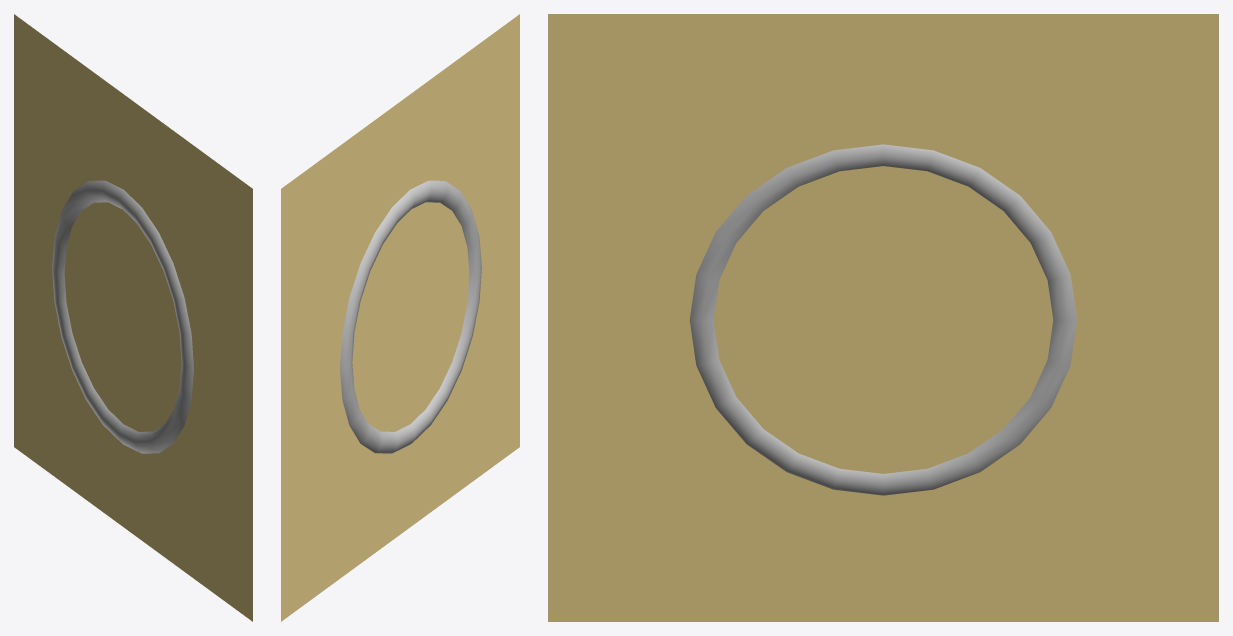
3 views of the same model, side by side, from view 1: azimuth 30°, elevation 25°; view 2: azimuth 150°, elevation 25°; view 3: azimuth 270°, elevation 25° (orthographic). The views are drawn at different scales.
Visible parts, largest first — view 1: @, "Editable Poly"; view 2: @, "Editable Poly"; view 3: @, "Editable Poly".
Part boxes in pixels (left/top/right/bottom): @: left=14, top=14, right=252, bottom=621; "Editable Poly": left=52, top=180, right=193, bottom=453; @: left=281, top=14, right=519, bottom=621; "Editable Poly": left=340, top=180, right=481, bottom=453; @: left=548, top=14, right=1218, bottom=621; "Editable Poly": left=689, top=144, right=1077, bottom=495.
Bounding box in the file's own units: 0.0678 × 1.05 × 1.05.
